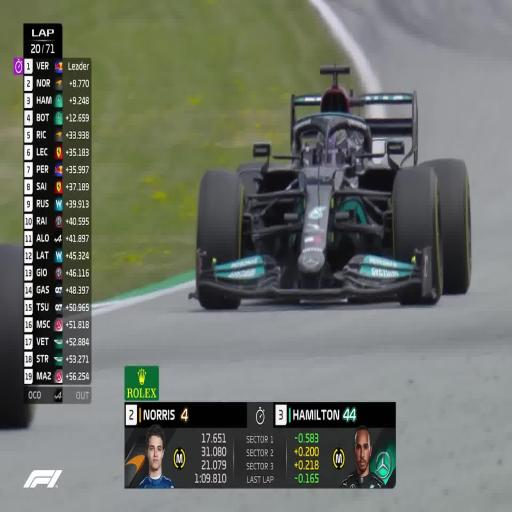f1_car: (190, 66, 471, 309)
